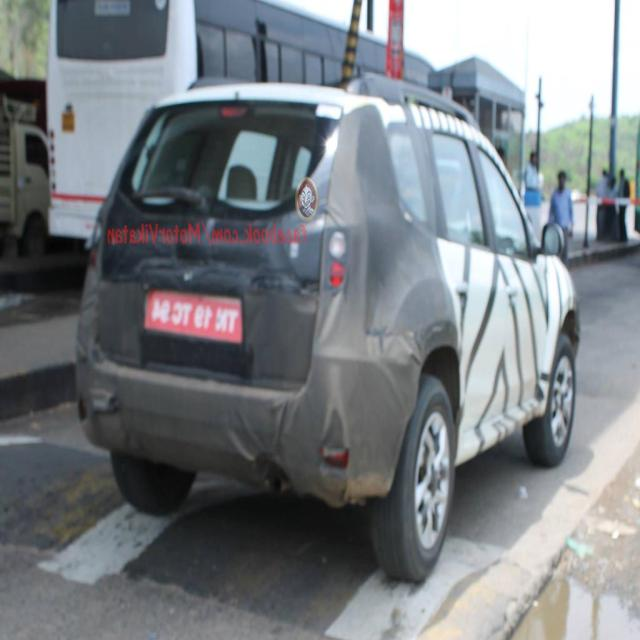number-plate: (132, 297, 247, 344)
